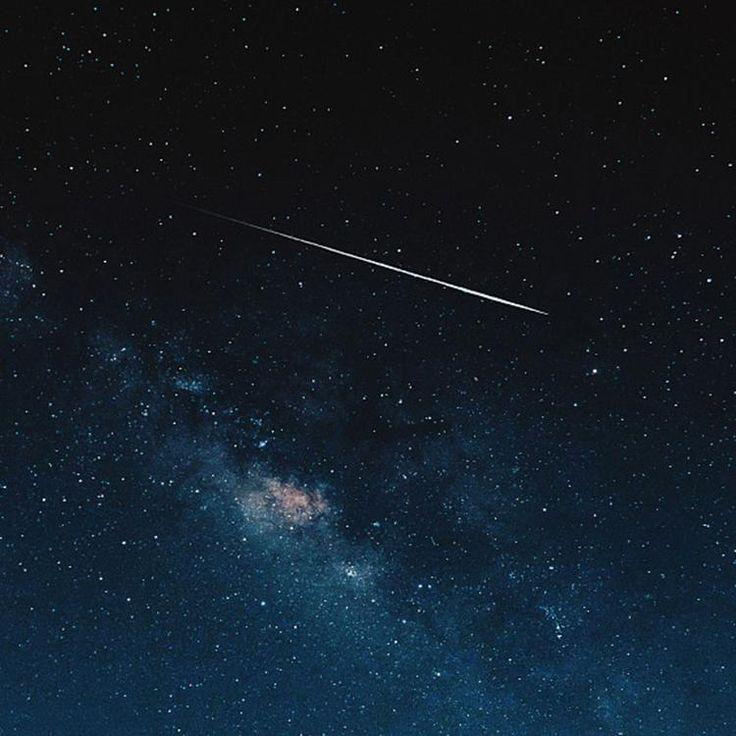meteor: (518, 298, 570, 330)
